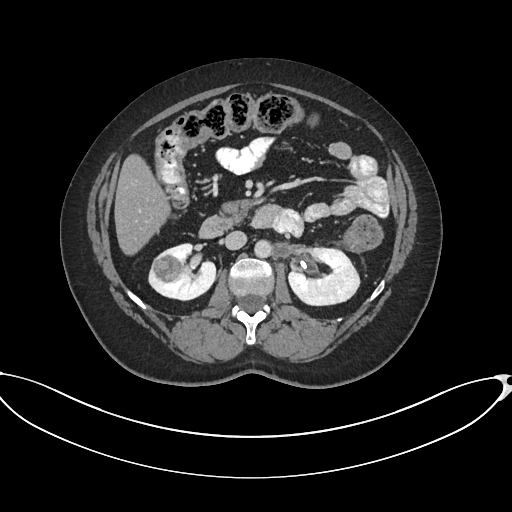Lesion: (149, 249, 184, 286)
